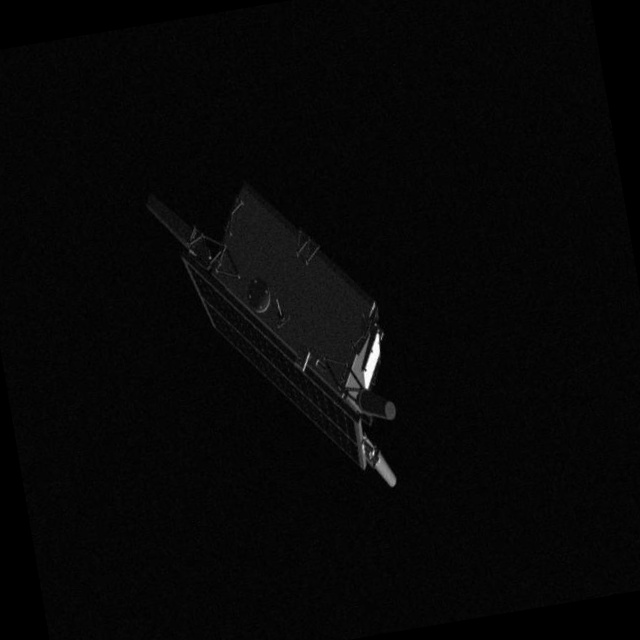satellite: (130, 154, 419, 557)
